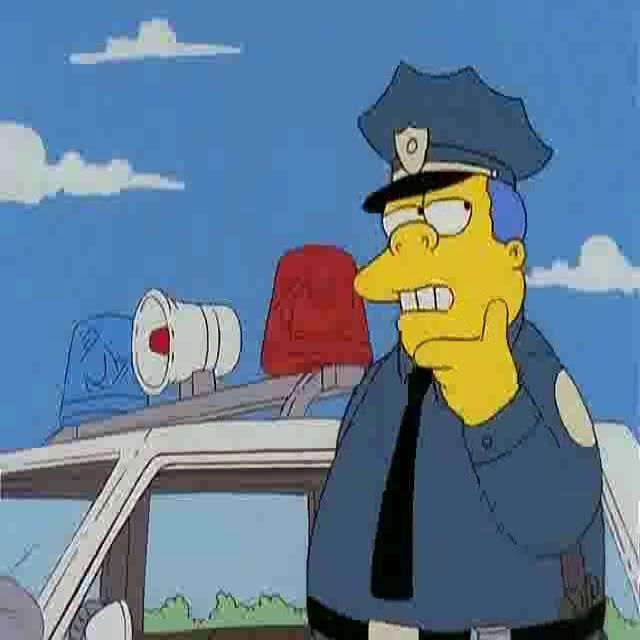Chief Wiggam: (351, 57, 559, 359)
